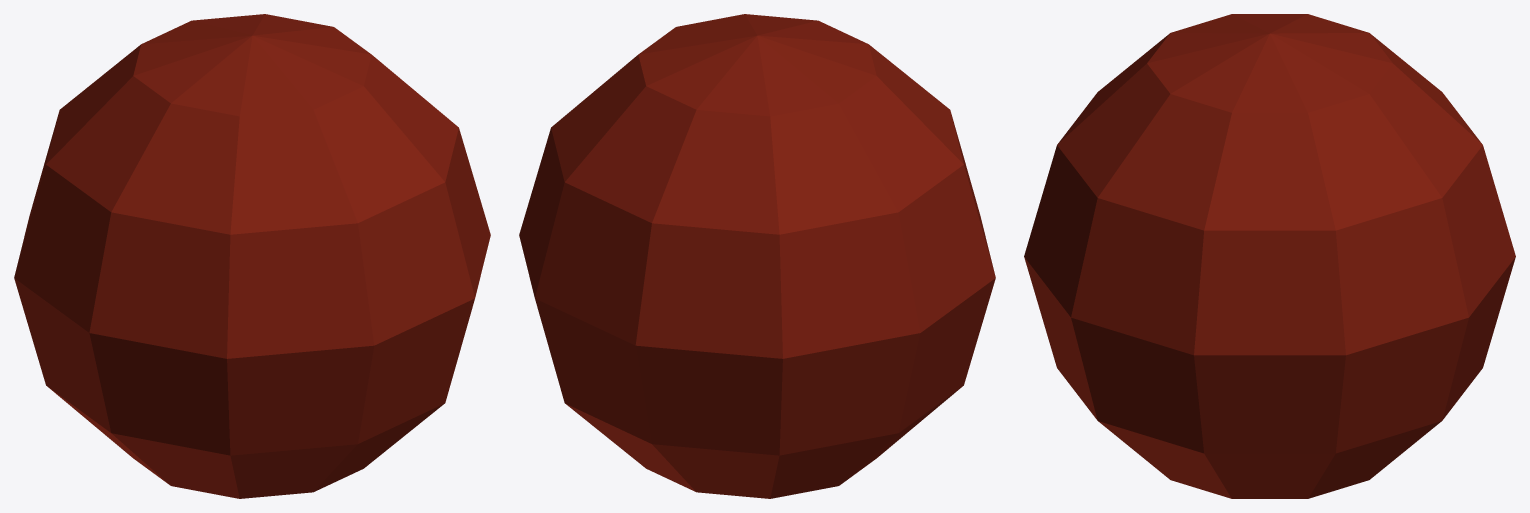
File: explosion.fbx
The picture shows the model from 3 angles, left to right: view 1: azimuth 30°, elevation 25°; view 2: azimuth 150°, elevation 25°; view 3: azimuth 270°, elevation 25°; orthographic projection.
Visible parts, largest first — view 1: Sphere; view 2: Sphere; view 3: Sphere.
Part boxes in pixels (box(x1,y1,x2,y2)): Sphere: box(14, 14, 490, 498); Sphere: box(519, 14, 995, 498); Sphere: box(1024, 14, 1515, 498).
Bounding box in the file's own units: 190 × 187 × 200.
